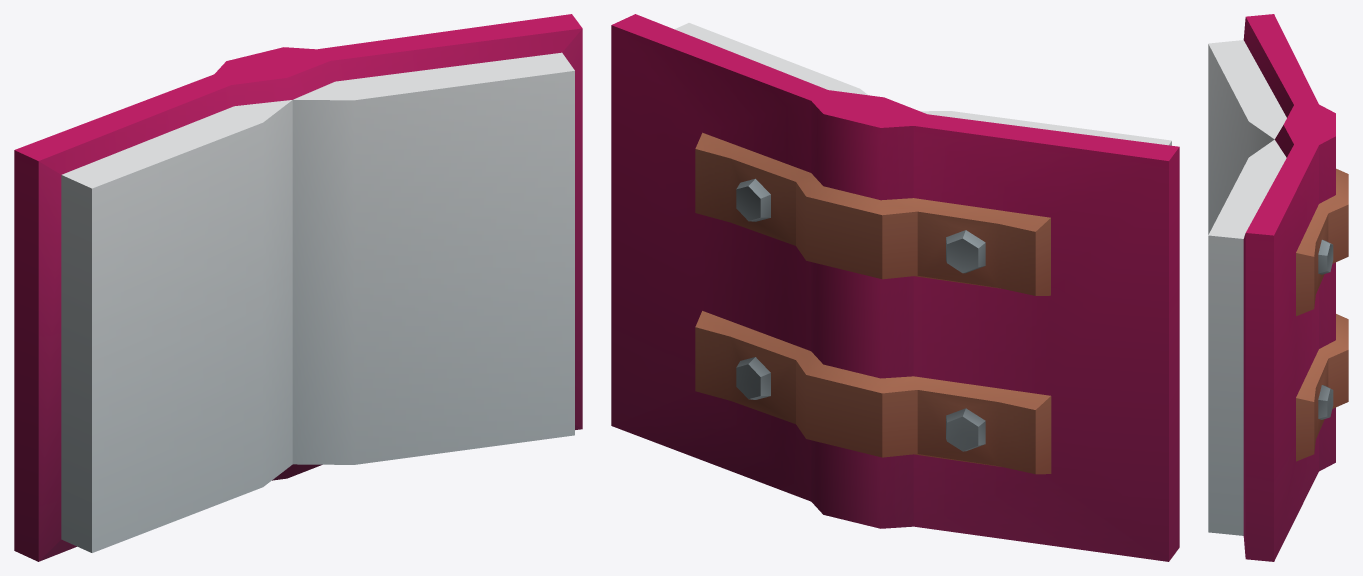
File: spellbook_open.glb
3 views of the same model, side by side, from view 1: azimuth 30°, elevation 25°; view 2: azimuth 150°, elevation 25°; view 3: azimuth 270°, elevation 25° (orthographic). The views are drawn at different scales.
Parts seen in each view (by area): view 1: spellbook_open; view 2: spellbook_open; view 3: spellbook_open.
Part boxes in pixels (bbox=[...]): spellbook_open: bbox=[14, 14, 582, 561]; spellbook_open: bbox=[611, 14, 1179, 561]; spellbook_open: bbox=[1208, 14, 1348, 561].
Size of the model in its own units: 0.8282 by 0.5688 by 0.2219.
Materials: 1 (1 with a texture image).
